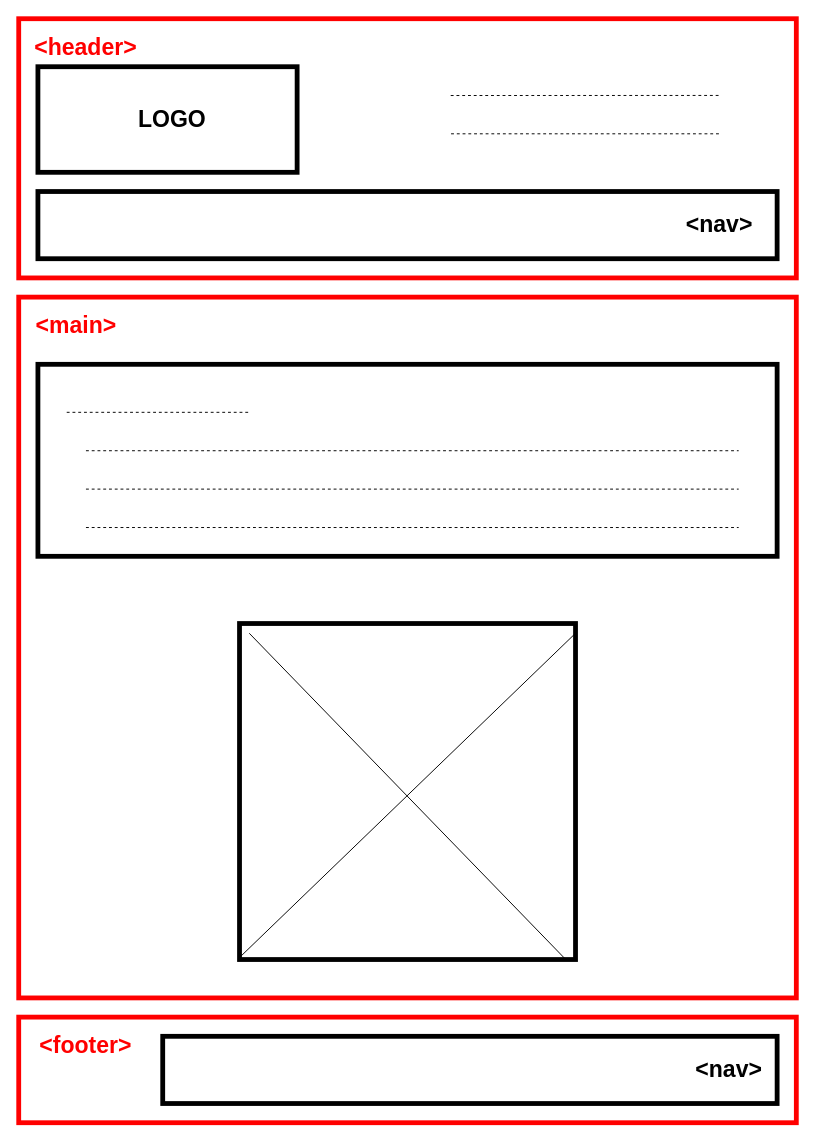
Image size: 815x1141. Some labels were removed from this diagram. The shapes that lost their labels are listed below. From the top down, each one's box as (x1, y1, x2, y2) in pixels, then its label:
(35, 361, 779, 558): <section>
(237, 621, 577, 961): <figure>
